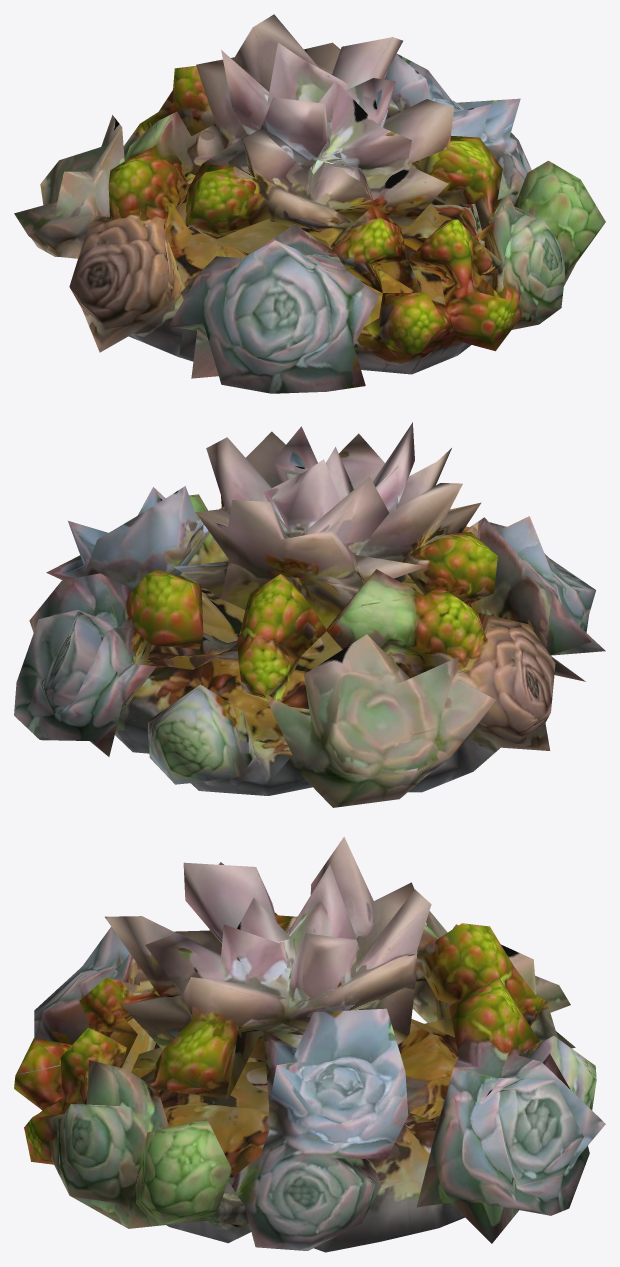
The model's file is plant-succulent.glb.
The picture shows the model from 3 angles, top to bottom: view 1: azimuth 30°, elevation 25°; view 2: azimuth 150°, elevation 25°; view 3: azimuth 270°, elevation 25°; orthographic projection. The views are drawn at different scales.
Parts seen in each view (by area): view 1: Mesh1.0; view 2: Mesh1.0; view 3: Mesh1.0.
Boxes of the visible parts, x1,y1,x2,y2 form: Mesh1.0: [14, 14, 605, 393]; Mesh1.0: [14, 422, 605, 807]; Mesh1.0: [14, 837, 605, 1252].
Size of the model in its own units: 1.9 by 1.05 by 1.92.
Materials: 1 (1 with a texture image).
